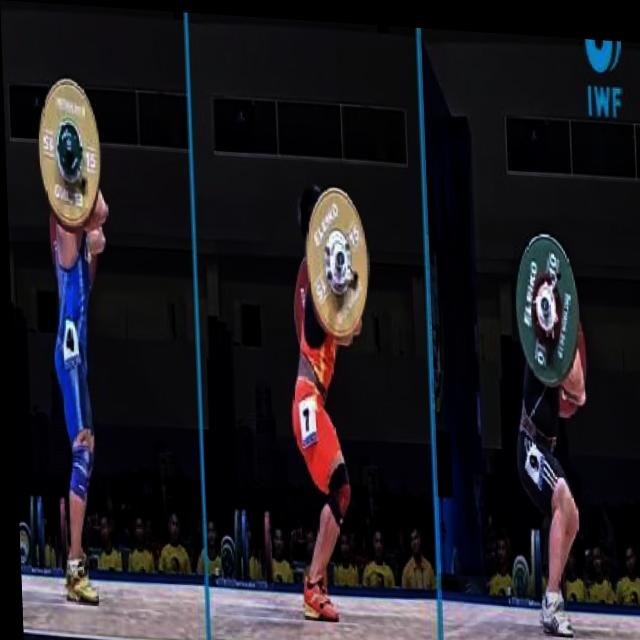barbell: (506, 222, 584, 389), (297, 179, 377, 341), (29, 73, 108, 235)
